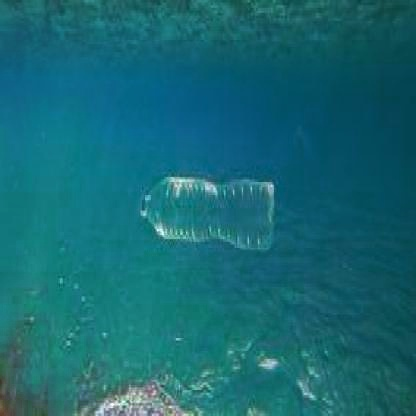pbottle: (131, 158, 282, 262)
